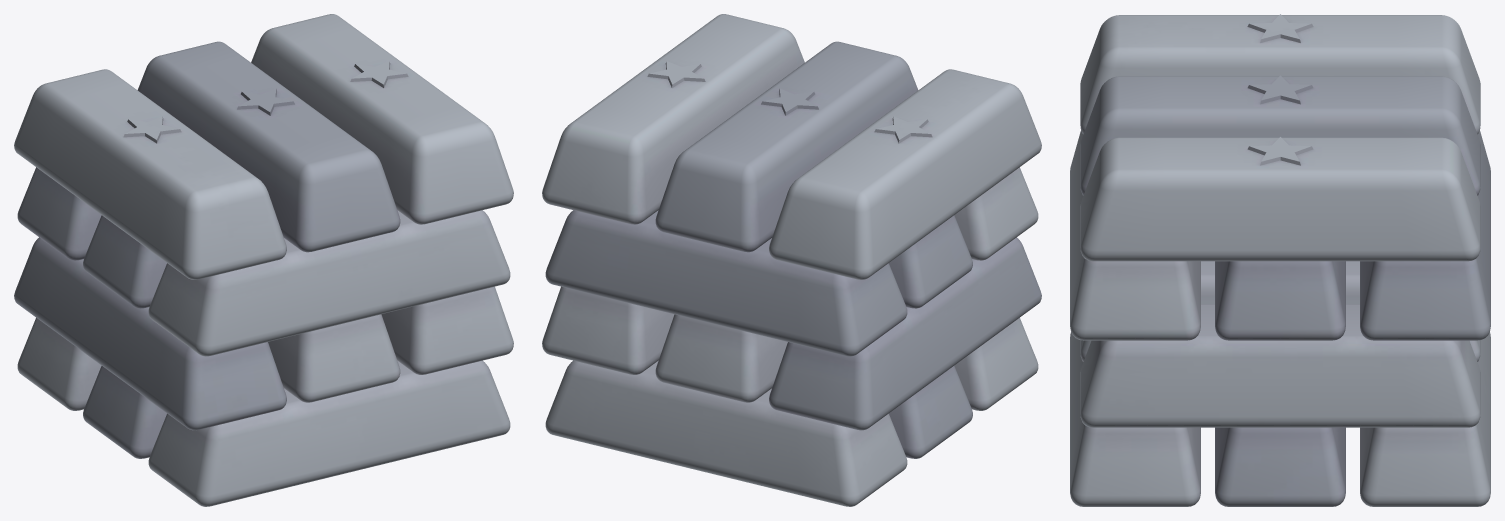
Rendered from metal-ingot-stack.glb.
The picture shows the model from 3 angles, left to right: view 1: azimuth 30°, elevation 25°; view 2: azimuth 150°, elevation 25°; view 3: azimuth 270°, elevation 25°; orthographic projection. The views are drawn at different scales.
Parts seen in each view (by area): view 1: metal-ingot-stack_body; view 2: metal-ingot-stack_body; view 3: metal-ingot-stack_body.
Boxes of the visible parts, bbox=[...] form: metal-ingot-stack_body: bbox=[14, 14, 513, 506]; metal-ingot-stack_body: bbox=[542, 14, 1041, 506]; metal-ingot-stack_body: bbox=[1070, 14, 1490, 506].
Bounding box in the file's own units: 0.2264 × 0.2002 × 0.2264.
Materials: 1 (1 with a texture image).
